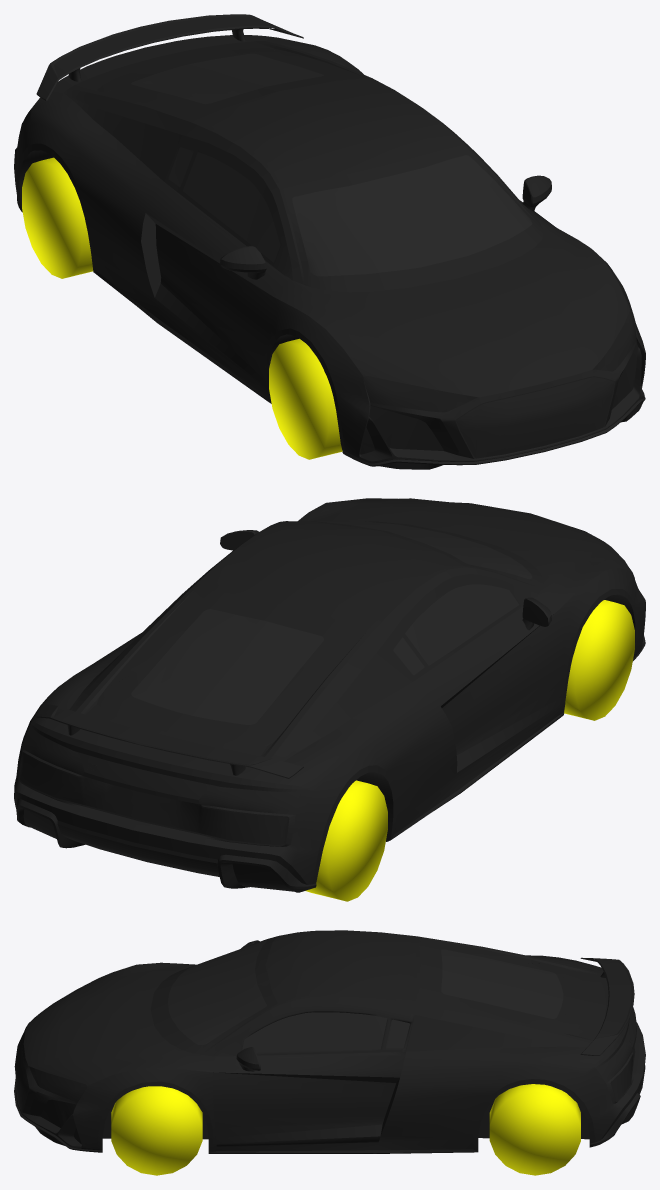
3 views of the same model, one above another, from view 1: azimuth 30°, elevation 25°; view 2: azimuth 150°, elevation 25°; view 3: azimuth 270°, elevation 25° (orthographic). The views are drawn at different scales.
Visible parts, largest first — view 1: _19_001, car_19_001, Wheel_BR_018, Wheel_BR_024, car_19_002; view 2: _19_001, car_19_001, Wheel_BR_024, Wheel_BR_018; view 3: _19_001, car_19_002, car_19_001, Wheel_BR_023, Wheel_BR_016, car_19_003.
Part boxes in pixels (x1,y1,x2,y2): _19_001: (14,14,645,469); car_19_001: (131,53,532,276); Wheel_BR_018: (269,338,342,459); Wheel_BR_024: (22,157,93,278); car_19_002: (519,175,556,227); _19_001: (14,498,645,892); car_19_001: (131,520,531,724); Wheel_BR_024: (305,780,387,901); Wheel_BR_018: (564,600,634,720); _19_001: (14,930,645,1153); car_19_002: (212,1003,414,1146); car_19_001: (168,941,563,1045); Wheel_BR_023: (489,1084,580,1175); Wheel_BR_016: (111,1086,202,1175); car_19_003: (242,1012,409,1052).
Size of the model in its own units: 1.56 by 0.9511 by 3.39.
Materials: 4 (2 with a texture image).
